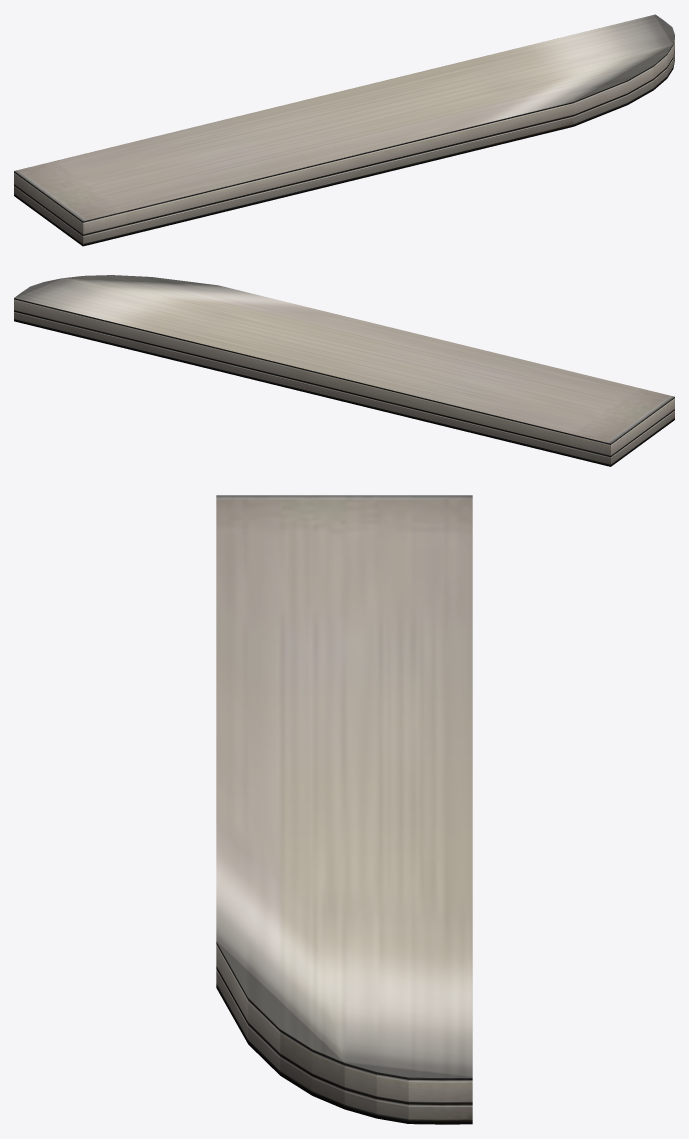
Rendered from shelf.fbx.
3 renders of one model, top to bottom at view 1: azimuth 30°, elevation 25°; view 2: azimuth 150°, elevation 25°; view 3: azimuth 270°, elevation 25°, orthographic. The views are drawn at different scales.
Parts seen in each view (by area): view 1: Cube; view 2: Cube; view 3: Cube.
Boxes of the visible parts, box(x1,y1,x2,y2) form: Cube: box(14, 14, 674, 246); Cube: box(14, 275, 674, 466); Cube: box(216, 495, 472, 1124).
Bounding box in the file's own units: 537 × 20 × 100.
1 material, 1 textured.
